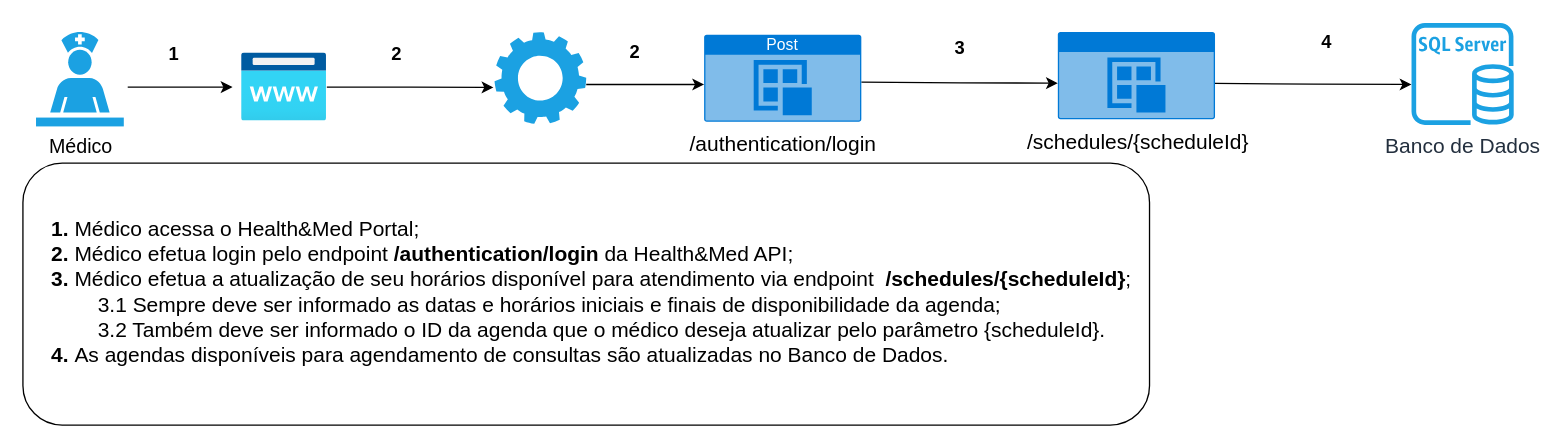
Image size: 1563x448. Some labels were removed from this diagram. The centre of each missing label's shape, as x and y in pixels:
"Health&Med API" belongs at (540,77).
"Health&Med Portal" belongs at (283,86).
"Put" belongs at (1135,75).
